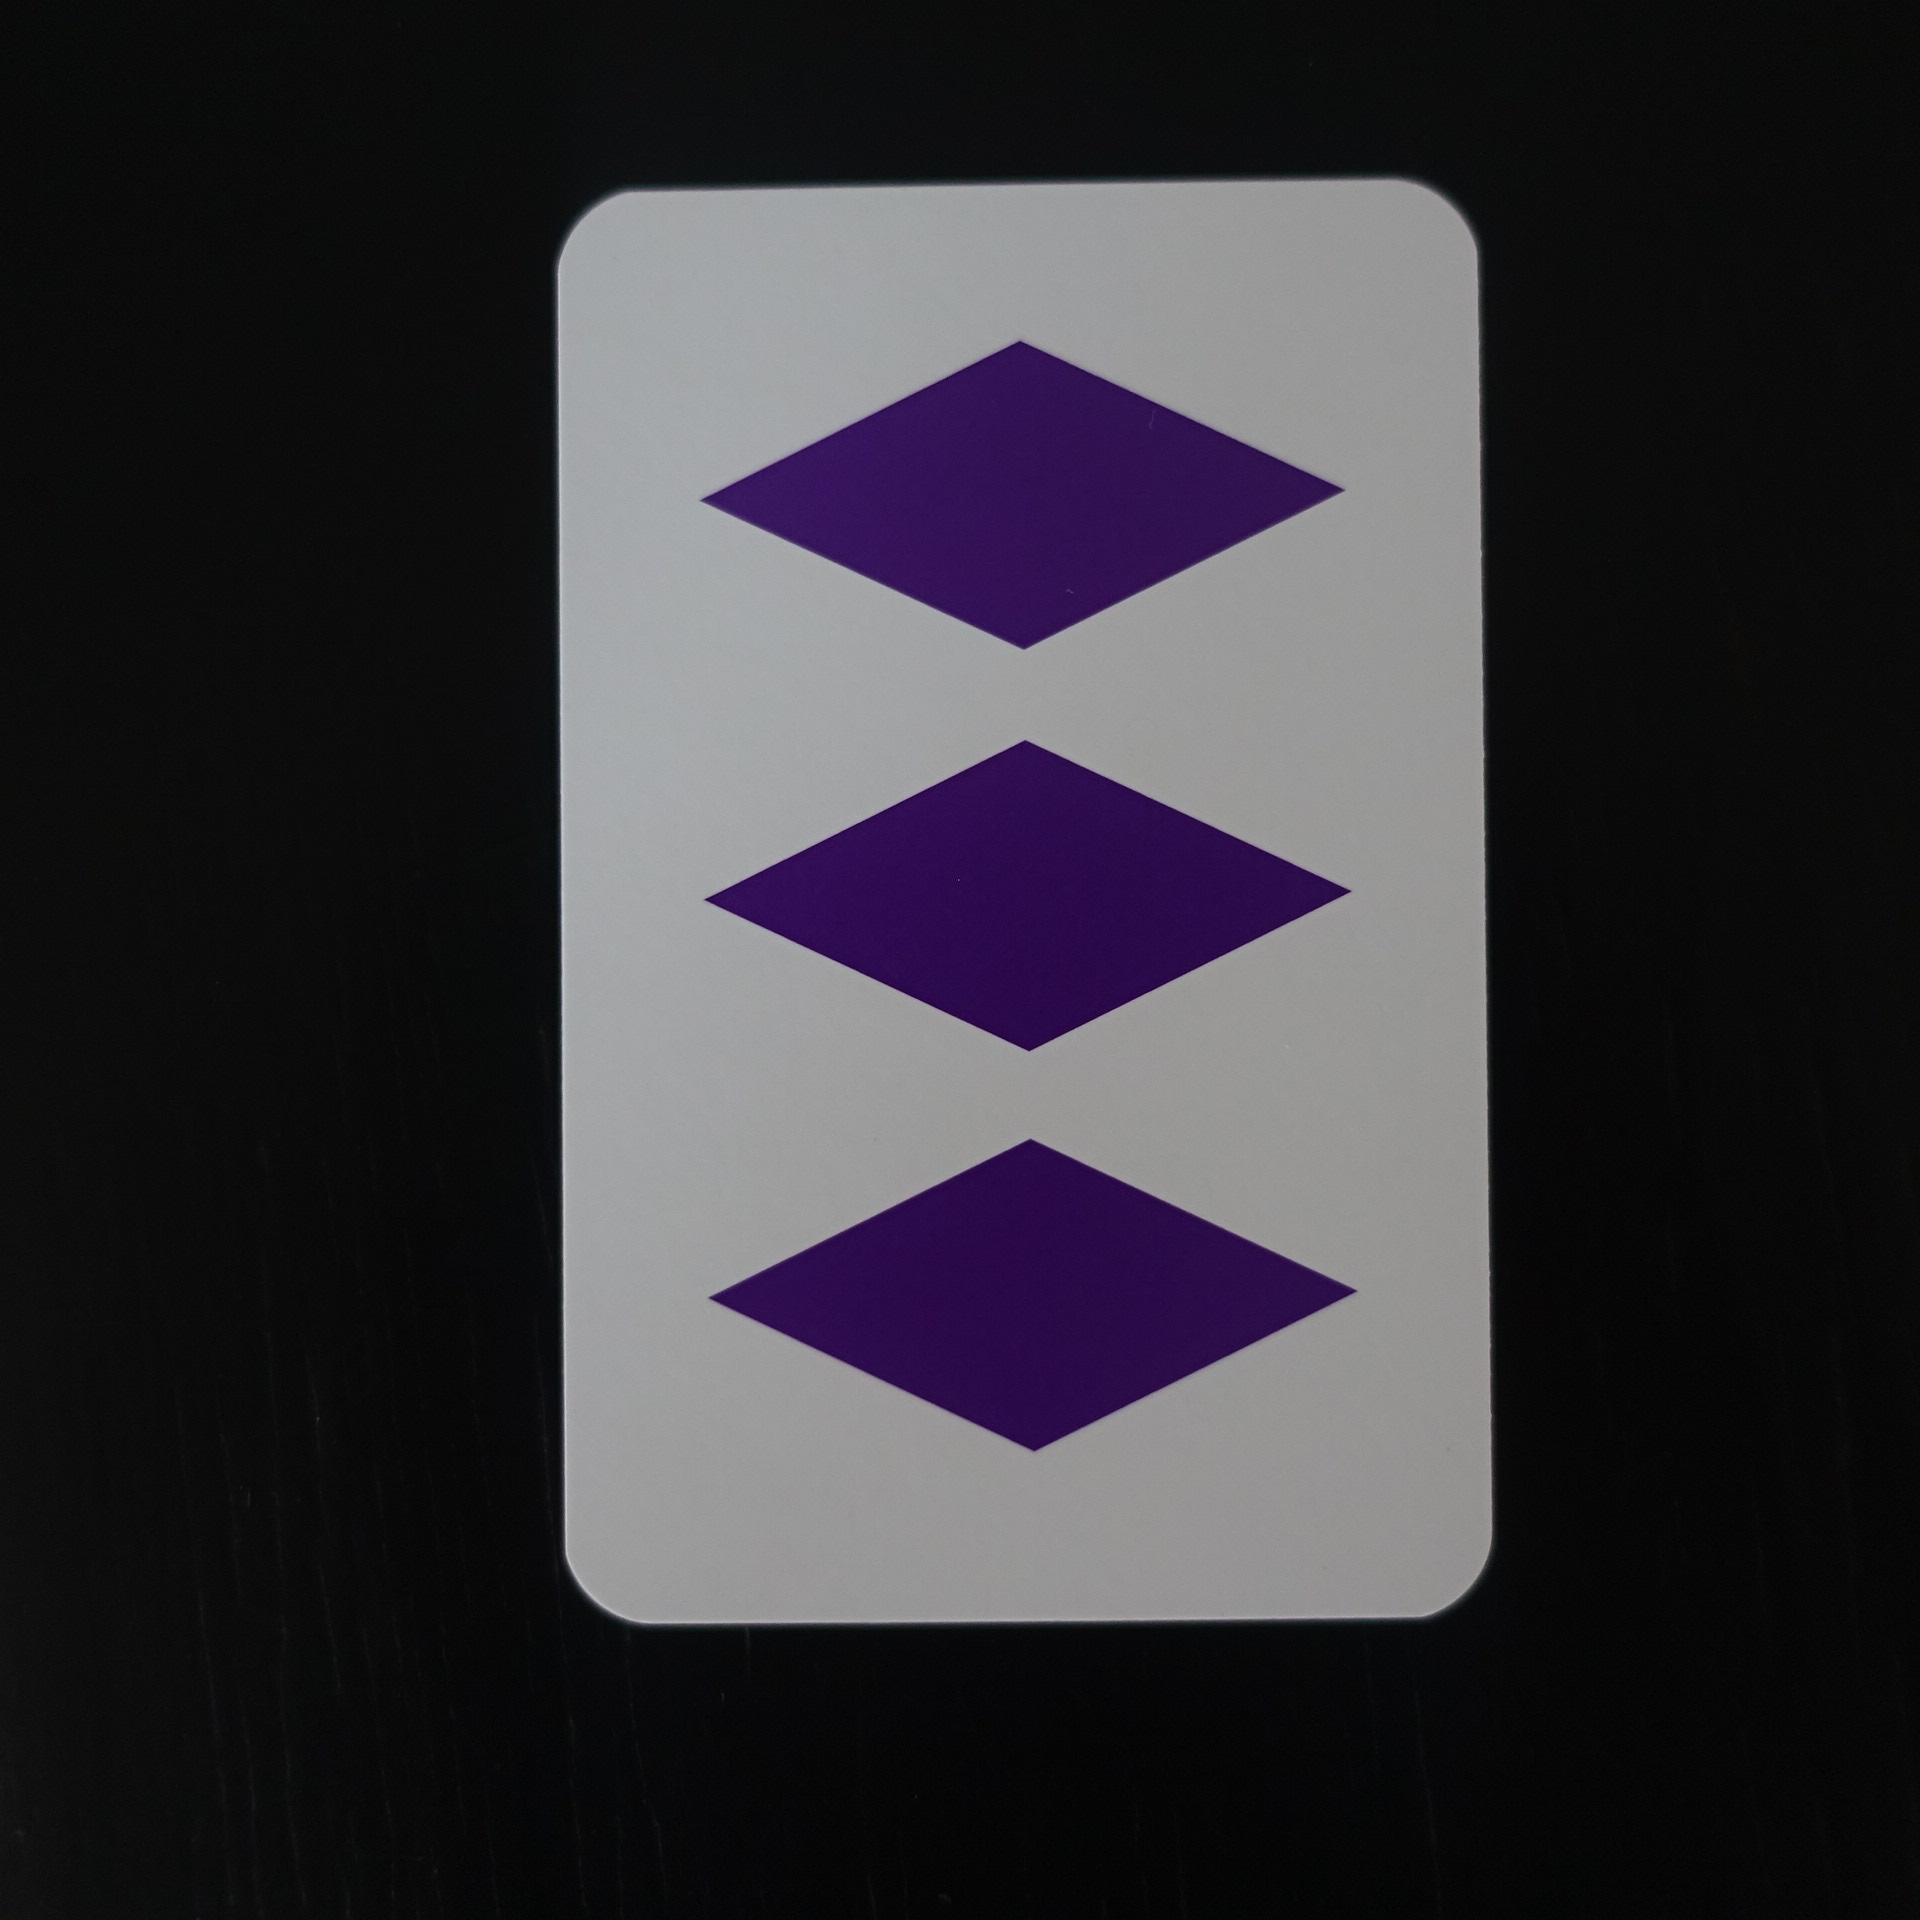c-3-f-d-p: (513, 155, 1530, 1653)
